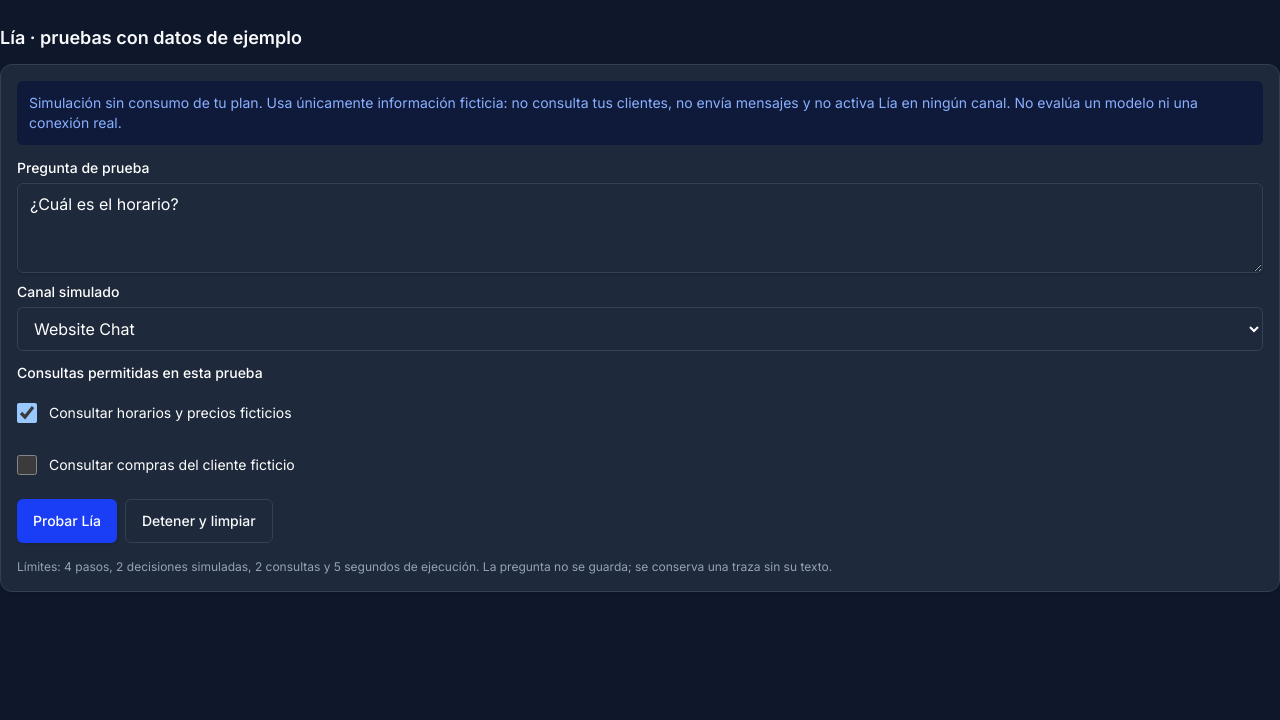
Test case: Mark sandbox interaction and stale response protection › keeps input and retrieves a durable outcome after a transport error without replaying execution
Click the button "Probar Lía": (67, 521) top-left (17, 499), bottom-right (117, 543)
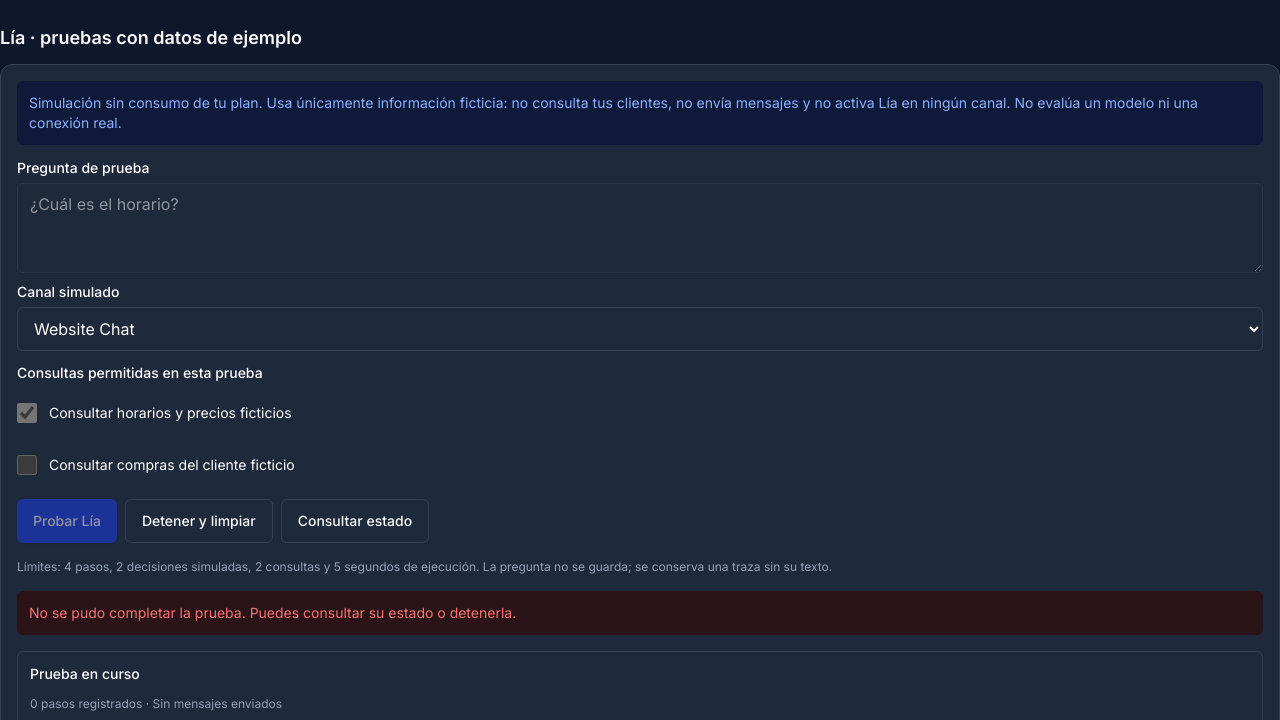
Expected: the message "No se pudo completar la prueba. Puedes consultar su estado o detenerla." does not show "private-transport-token", top-left (17, 591), bottom-right (1263, 635)
Expected: the text box labelled "Pregunta de prueba" holds "¿Cuál es el horario?", top-left (17, 183), bottom-right (1263, 273)
Click the button "Consultar estado": (355, 521) top-left (281, 499), bottom-right (429, 543)
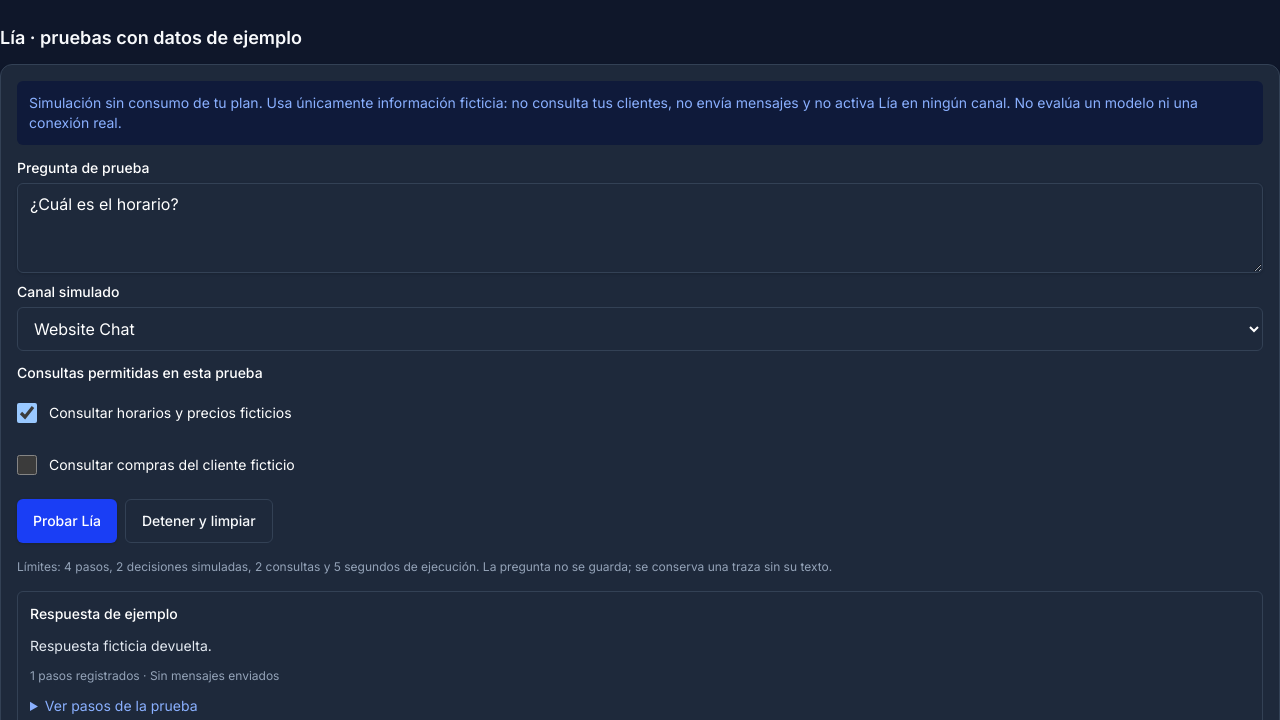
Now the text "Respuesta ficticia devuelta." is shown, box top-left (30, 637), bottom-right (212, 654)
